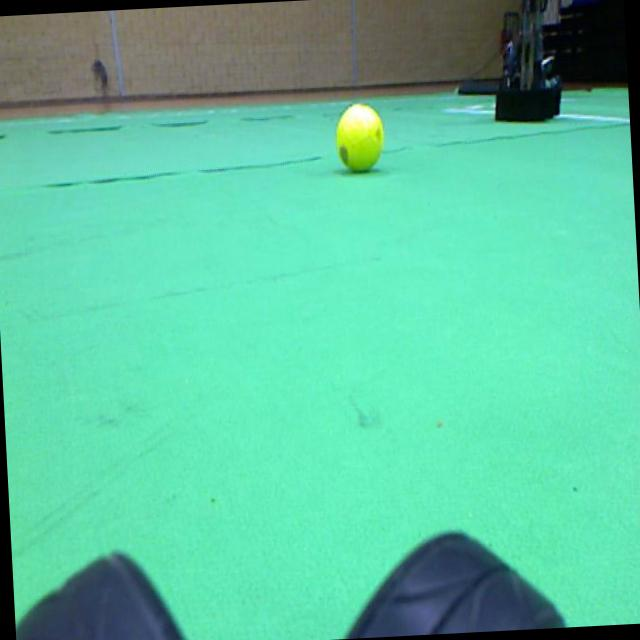ball: (336, 103, 383, 170)
robot: (497, 0, 563, 121)
